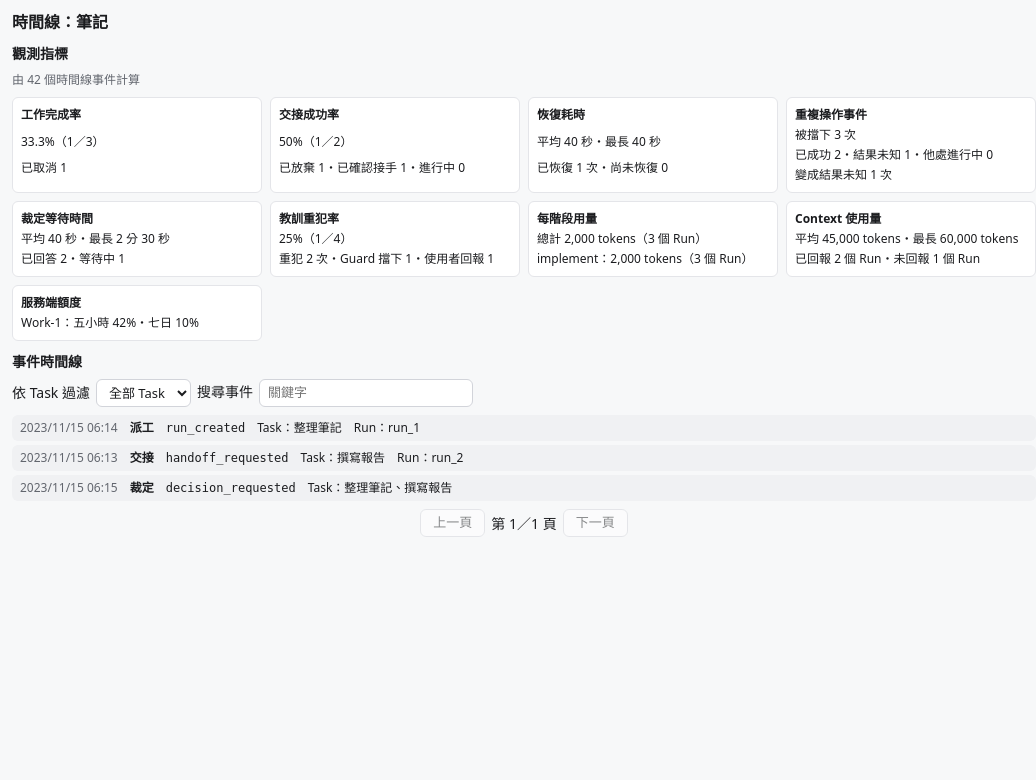
Test: 時間線 › 選擇 Task 後以 task_id 重新查詢並只顯示 Runtime 回傳的事件；清除過濾後回到全部
The width and height of the screenshot is (1036, 780).
Expected: the list named "事件" is shown, x1=12 y1=415 x2=1035 y2=501
Select "撰寫報告" in the dropdown labelled "依 Task 過濾" at (144, 393), box x1=96 y1=379 x2=191 y2=407
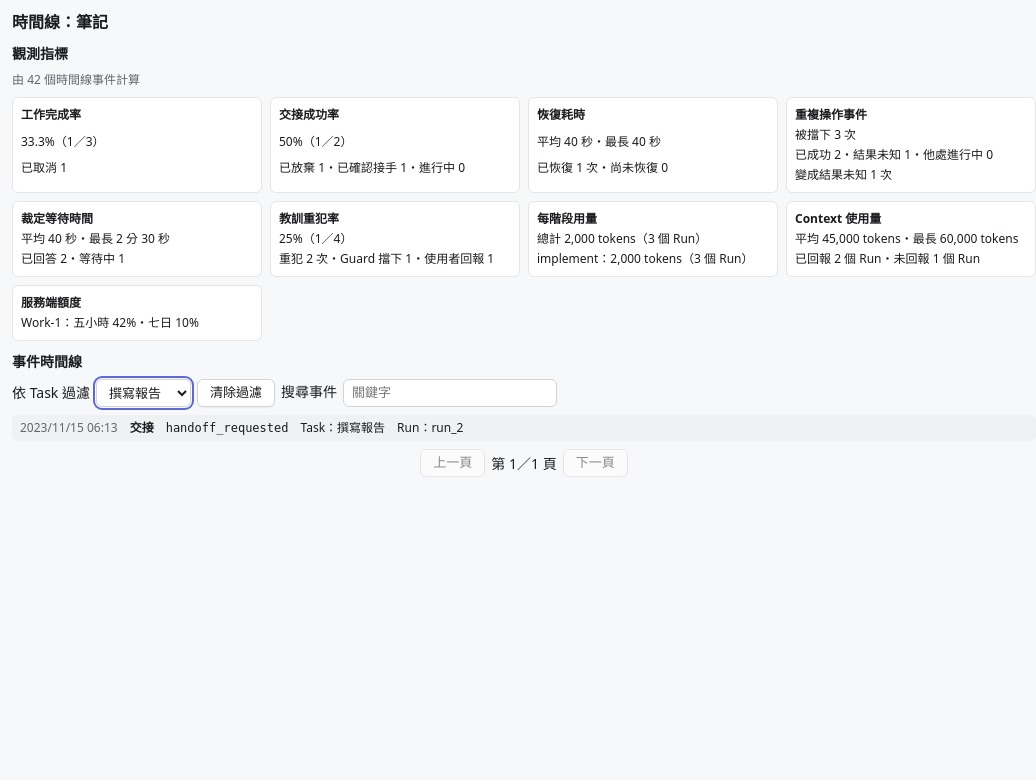
Expected: the list named "事件" shows "handoff_requested", x1=166 y1=421 x2=288 y2=435
Now the number of list items is 1, box x1=12 y1=415 x2=1035 y2=441
Click the button "清除過濾".
click(236, 393)  # box x1=197 y1=379 x2=275 y2=407
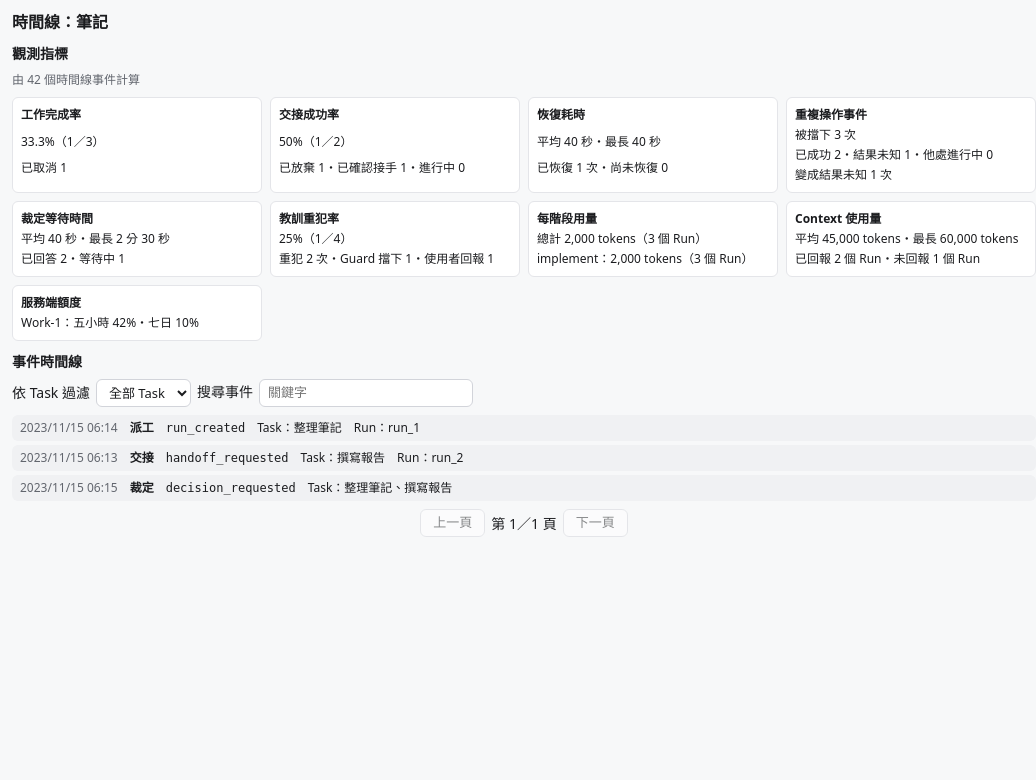
Now the number of list items is 3, box x1=12 y1=415 x2=1035 y2=441; x1=12 y1=445 x2=1035 y2=471; x1=12 y1=475 x2=1035 y2=501
Now the button "清除過濾" is gone
